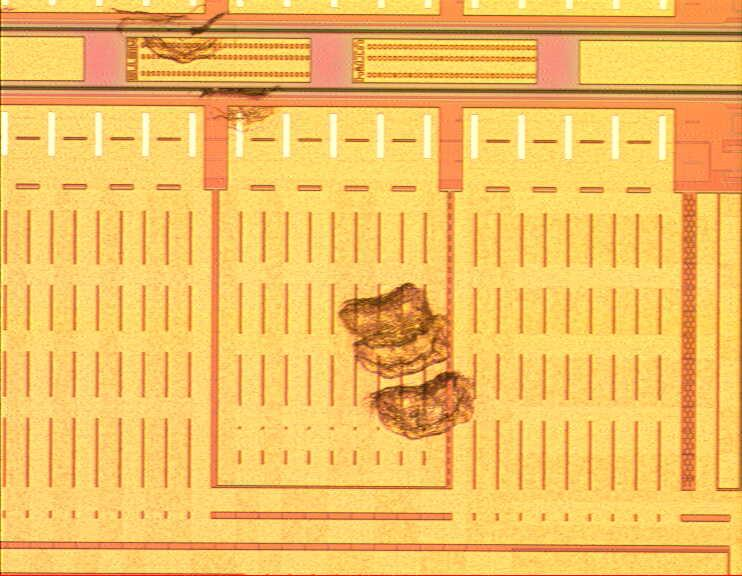SCRATCH: (94, 1, 482, 441)
